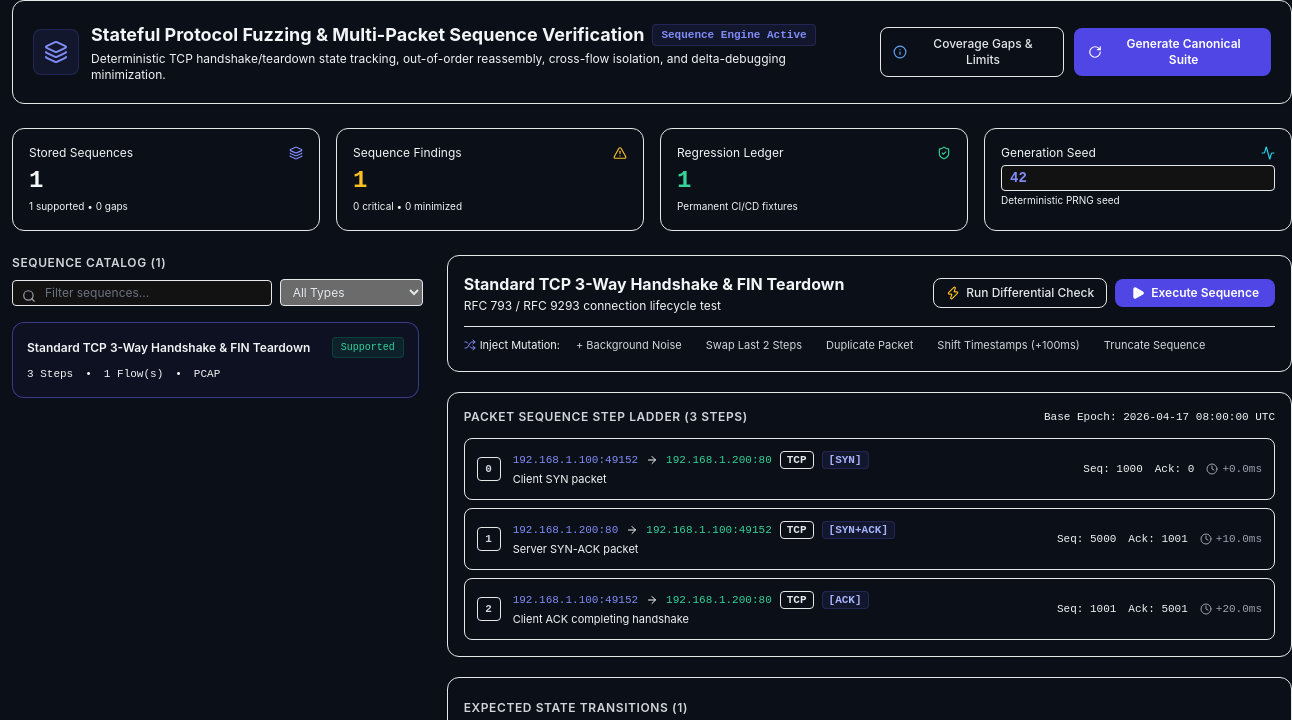
Test: StatefulSequenceWorkbench Component › handles differential check failure gracefully with visible error banner
Check: the text "Run Differential Check" is shown, box [966,285,1094,301]
What coordinates should you click on to do the following:
click the button "Run Differential Check"
I would click on:
 (1020, 293)
Its box is [933,278,1107,308].
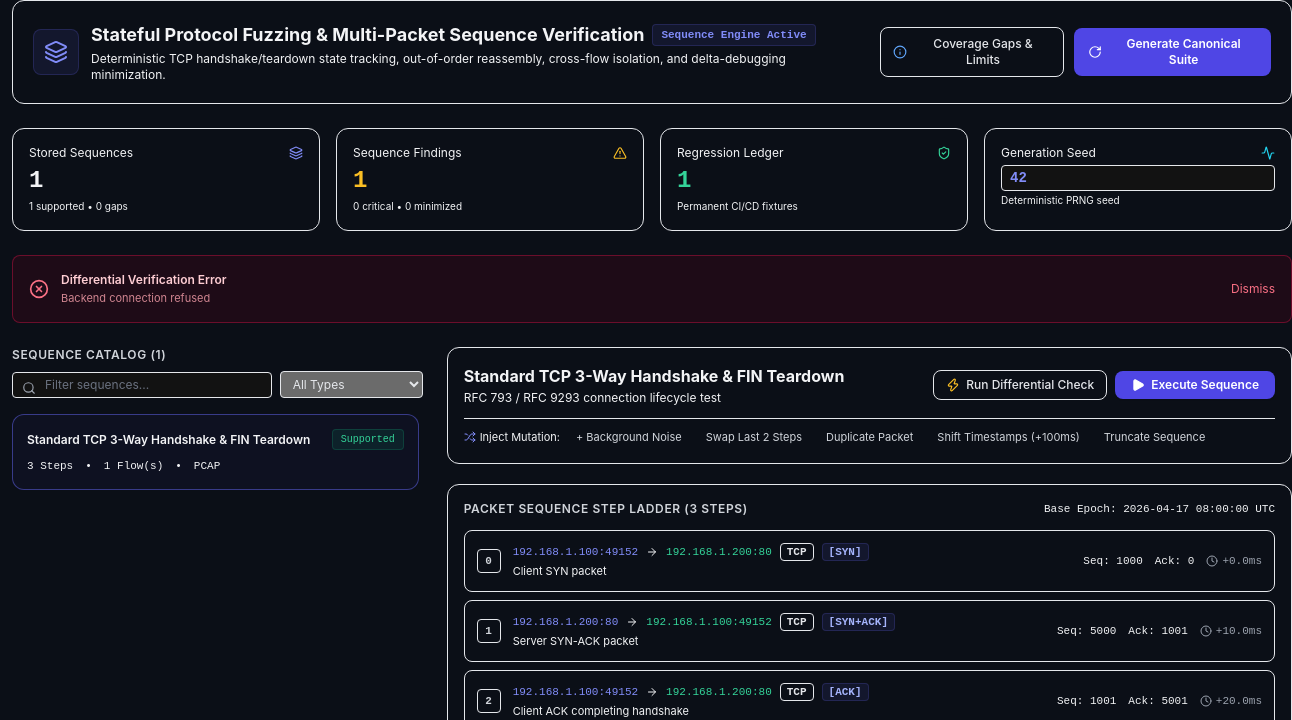
Check: the text "Differential Verification Error" is shown, box [61,272,227,288]
Check: the text "Backend connection refused" is shown, box [61,290,227,306]
